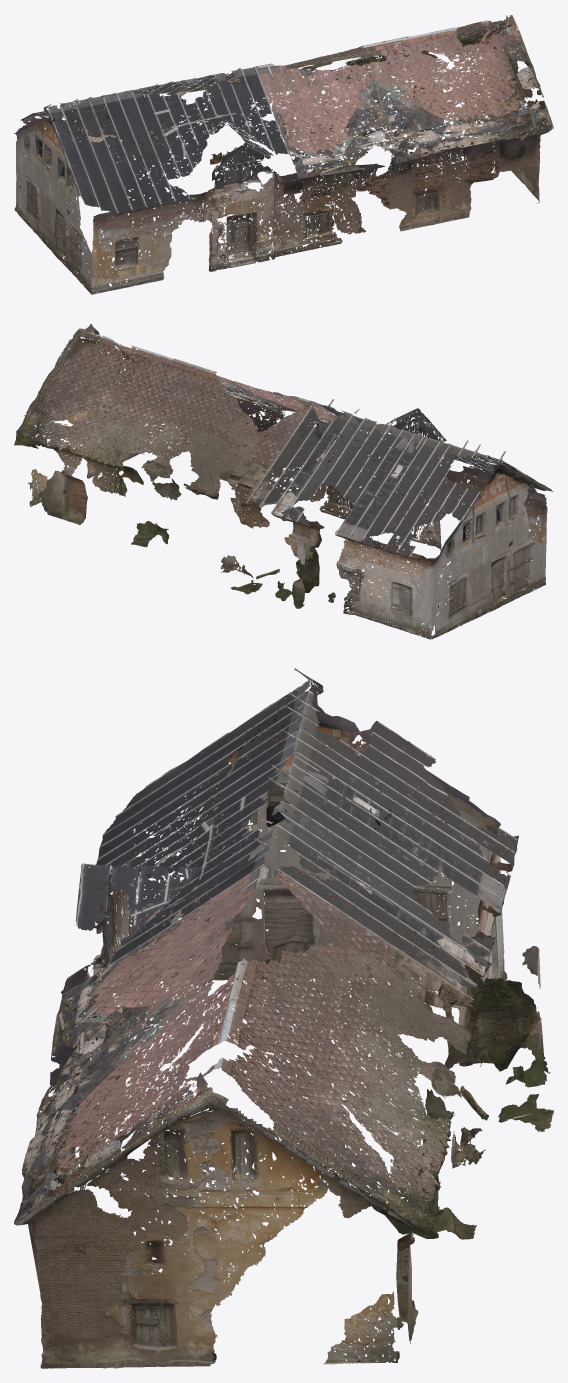
The model's file is house_ruin.glb.
3 views of the same model, one above another, from view 1: azimuth 30°, elevation 25°; view 2: azimuth 150°, elevation 25°; view 3: azimuth 270°, elevation 25° (orthographic). The views are drawn at different scales.
Parts seen in each view (by area): view 1: Merged; view 2: Merged; view 3: Merged.
Part boxes in pixels (left/top/right/bottom): Merged: left=14, top=15, right=553, bottom=294; Merged: left=14, top=323, right=553, bottom=639; Merged: left=14, top=668, right=553, bottom=1368.
Size of the model in its own units: 30.65 by 10.48 by 16.15.
Materials: 3 (3 with a texture image).
